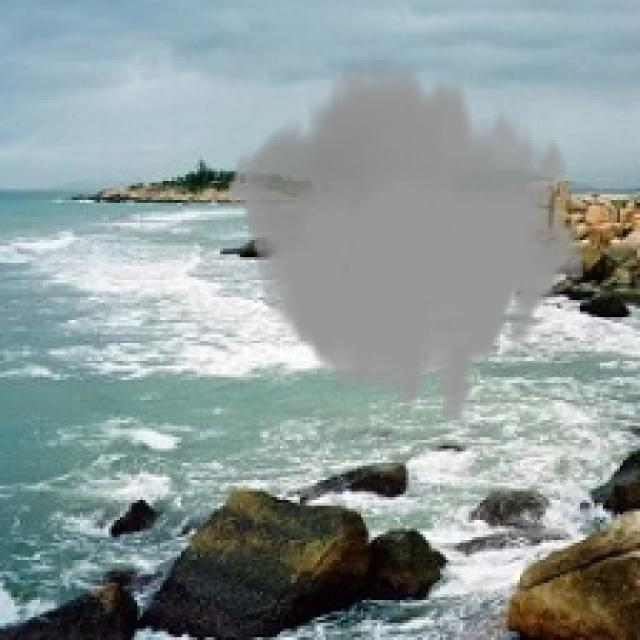smoke: (225, 60, 586, 420)
